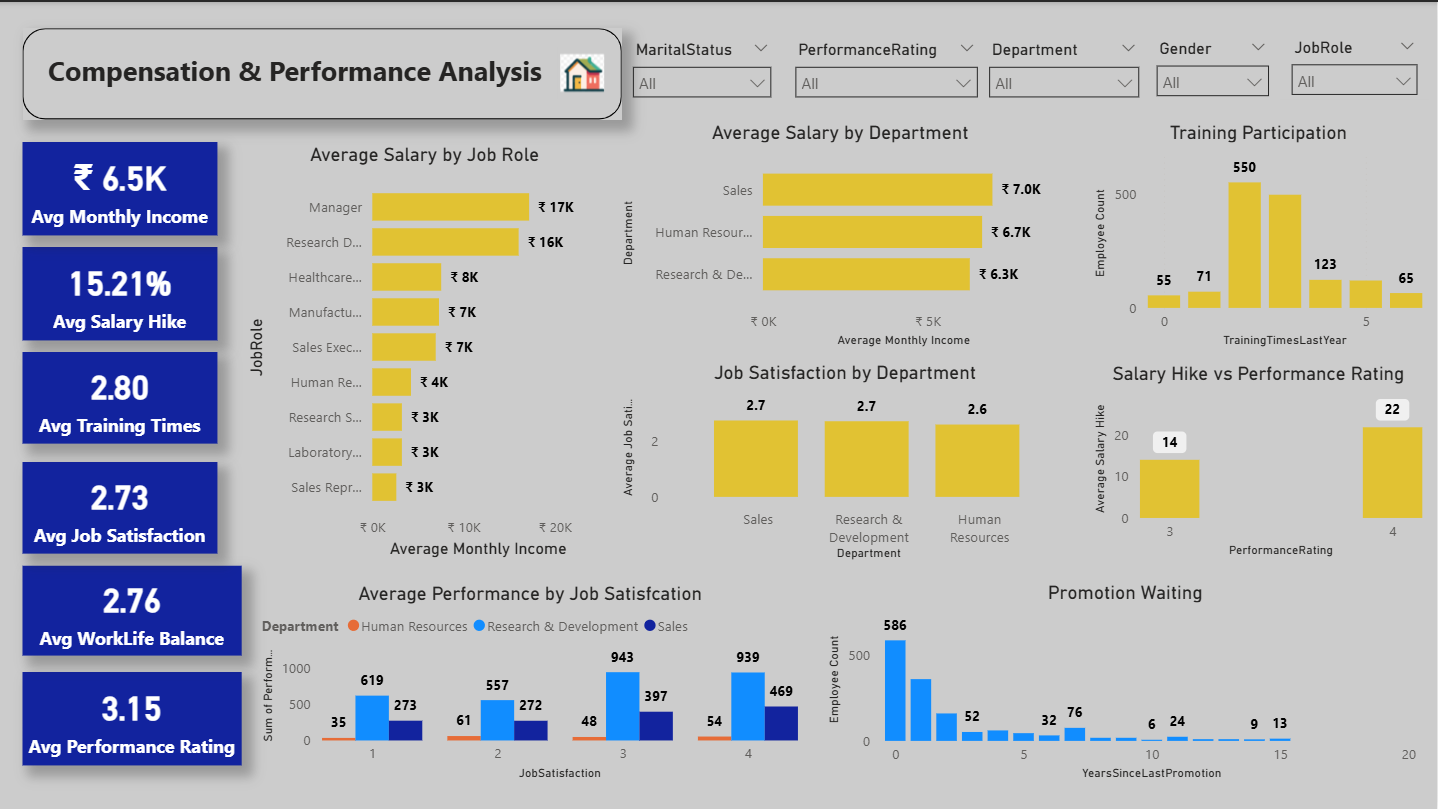

This screenshot's page, from the dashboard's own definition file:
{"tool":"powerbi","page":{"name":"Compensation & Performance Analysis","canvas":[1280,720],"ordinal":3},"visuals":[{"type":"card","fields":{"Values":["HR_Analytics.Average Performance Rating"]},"box":[20,596.7,195,83.3],"z":0},{"type":"card","fields":{"Values":["HR_Analytics.Avg Salary Hike Display"]},"box":[20,218.3,173.3,83.3],"z":1000},{"type":"card","fields":{"Values":["HR_Analytics.Average WorkLife Balance"]},"box":[20,501.7,195,80],"z":2000},{"type":"card","fields":{"Values":["HR_Analytics.Average Monthly Income"]},"box":[20,125,173.3,83.3],"z":3000},{"type":"clusteredColumnChart","title":"Job Satisfaction by Department","fields":{"Category":["HR_Analytics.Department"],"Y":["HR_Analytics.Average Job Satisfaction"]},"box":[548.9,320,407.8,182.2],"z":4000},{"type":"clusteredColumnChart","title":"Training Participation","fields":{"Category":["HR_Analytics.TrainingTimesLastYear"],"Y":["HR_Analytics.Employee Count"]},"box":[970,105.6,302.2,206.7],"z":5000},{"type":"clusteredBarChart","title":"Average Salary by Department","fields":{"Y":["HR_Analytics.Average Monthly Income"],"Category":["HR_Analytics.Department"]},"box":[548.9,105.6,398.9,206.7],"z":6000},{"type":"lineStackedColumnComboChart","title":"Salary Hike vs Performance Rating","fields":{"Category":["HR_Analytics.PerformanceRating"],"Y":["HR_Analytics.Average Salary Hike"]},"box":[970,321.1,302.2,178.9],"z":7000},{"type":"columnChart","title":"Promotion Waiting","fields":{"Category":["HR_Analytics.YearsSinceLastPromotion"],"Y":["HR_Analytics.Employee Count"]},"box":[732.6,515.2,539.1,182.6],"z":8000},{"type":"clusteredBarChart","title":"Average Salary by Job Role","fields":{"Y":["HR_Analytics.Average Monthly Income"],"Category":["HR_Analytics.JobRole"]},"box":[215.6,125.6,324.4,374.4],"z":9000},{"type":"slicer","fields":{"Values":["HR_Analytics.Department"]},"box":[870,28.8,153.8,61.2],"z":10000},{"type":"slicer","fields":{"Values":["HR_Analytics.Gender"]},"box":[1020,27.5,120,58.8],"z":11000},{"type":"slicer","fields":{"Values":["HR_Analytics.PerformanceRating"]},"box":[697.5,28.8,182.5,61.2],"z":12000},{"type":"slicer","fields":{"Values":["HR_Analytics.MaritalStatus"]},"box":[553.8,28.8,143.8,61.2],"z":13000},{"type":"slicer","fields":{"Values":["HR_Analytics.JobRole"]},"box":[1140,26.2,132.5,60],"z":14000},{"type":"shape","box":[20,23.8,533.8,81.2],"z":15000},{"type":"textbox","box":[28.8,40,467.5,46.2],"z":16000},{"type":"card","fields":{"Values":["HR_Analytics.Female Employees"]},"box":[1318.3,23.3,211.7,81.7],"z":17000},{"type":"card","fields":{"Values":["HR_Analytics.Average Job Satisfaction"]},"box":[20,410,173.3,81.7],"z":18000},{"type":"clusteredColumnChart","title":"Average Performance by Job Satisfcation","fields":{"Category":["HR_Analytics.JobSatisfaction"],"Y":["Sum(HR_Analytics.PerformanceRating)"],"Series":["HR_Analytics.Department"]},"box":[227.8,516.7,487.8,181.1],"z":19000},{"type":"card","fields":{"Values":["HR_Analytics.Average Training Times"]},"box":[20,311.7,173.3,81.7],"z":20000},{"type":"actionButton","title":"🏠","box":[496.2,40,43.8,46.2],"z":21000}]}

Visuals, with their boxes in screenshot pixels (x1, y1, x2, y2), scaled from the page's 1280x720 canvas onto the 1438x809 screenshot:
card - HR_Analytics.Average Performance Rating: rect(22, 670, 242, 764)
card - HR_Analytics.Avg Salary Hike Display: rect(22, 245, 217, 339)
card - HR_Analytics.Average WorkLife Balance: rect(22, 564, 242, 654)
card - HR_Analytics.Average Monthly Income: rect(22, 140, 217, 234)
"Job Satisfaction by Department" clusteredColumnChart: rect(617, 360, 1075, 564)
"Training Participation" clusteredColumnChart: rect(1090, 119, 1429, 351)
"Average Salary by Department" clusteredBarChart: rect(617, 119, 1065, 351)
"Salary Hike vs Performance Rating" lineStackedColumnComboChart: rect(1090, 361, 1429, 562)
"Promotion Waiting" columnChart: rect(823, 579, 1429, 784)
"Average Salary by Job Role" clusteredBarChart: rect(242, 141, 607, 562)
slicer - HR_Analytics.Department: rect(977, 32, 1150, 101)
slicer - HR_Analytics.Gender: rect(1146, 31, 1281, 97)
slicer - HR_Analytics.PerformanceRating: rect(784, 32, 989, 101)
slicer - HR_Analytics.MaritalStatus: rect(622, 32, 784, 101)
slicer - HR_Analytics.JobRole: rect(1281, 29, 1430, 97)
shape: rect(22, 27, 622, 118)
textbox: rect(32, 45, 558, 97)
card - HR_Analytics.Average Job Satisfaction: rect(22, 461, 217, 552)
"Average Performance by Job Satisfcation" clusteredColumnChart: rect(256, 581, 804, 784)
card - HR_Analytics.Average Training Times: rect(22, 350, 217, 442)
"🏠" actionButton: rect(557, 45, 607, 97)
